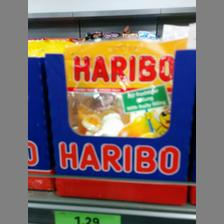Suessigkeit: (51, 38, 188, 138)
